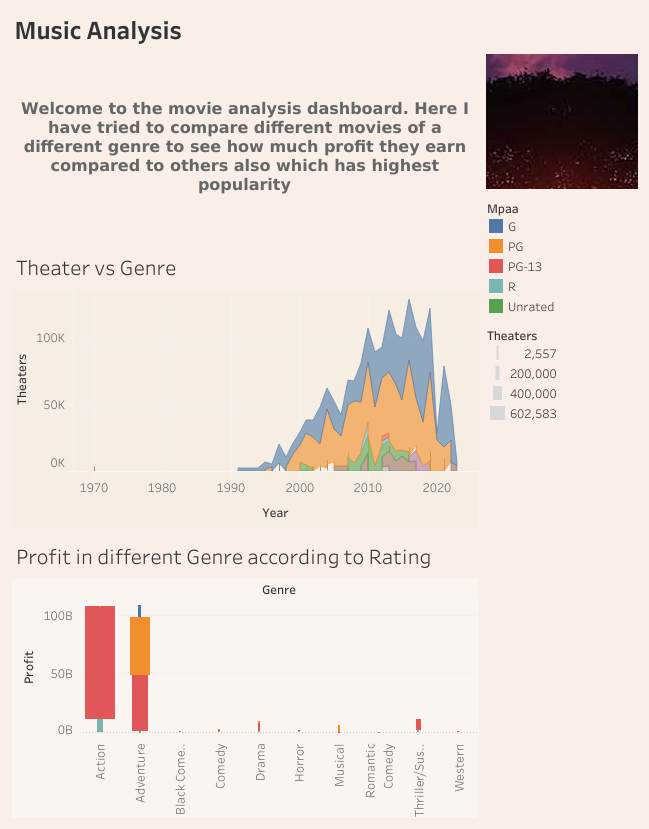

Layout of this report page (visuals, bound fields, positions):
{"tool":"tableau","page":{"name":"Dashboard 1","canvas":[650,860],"ordinal":0},"visuals":[{"type":"title","box":[8,8,634,49]},{"type":"text","box":[8,57,474,198.7]},{"type":"image","param":"Image/pexels-pixabay-36717.jpg","box":[482,57,160,158]},{"type":"legend","title":"Sheet 1","param":"[federated.0uvfwpr089ojaq1do77tg1ug7zmy].[none:mpaa:nk]","box":[482,215,160,135]},{"type":"worksheet","title":"Sheet 2","mark":"Area","rows":["theaters"],"cols":["Year"],"box":[8,255.7,474,298.1]},{"type":"legend","title":"Sheet 1","param":"[federated.0uvfwpr089ojaq1do77tg1ug7zmy].[sum:theaters:qk]","box":[482,350,160,502]},{"type":"worksheet","title":"Sheet 1","mark":"Automatic","rows":["Profit"],"cols":["genre"],"box":[8,553.9,474,298.1]}]}

Visuals, with their boxes on the page's 650x860 design canvas (x1, y1, x2, y2). These are canvas units, not pixel positions in the 649x829 screenshot, which may show the page scaled, cropped or inside an application window:
title: locate(8, 8, 642, 57)
text: locate(8, 57, 482, 256)
image: locate(482, 57, 642, 215)
"Sheet 1" legend: locate(482, 215, 642, 350)
"Sheet 2" worksheet (Area marks): locate(8, 256, 482, 554)
"Sheet 1" legend: locate(482, 350, 642, 852)
"Sheet 1" worksheet: locate(8, 554, 482, 852)
